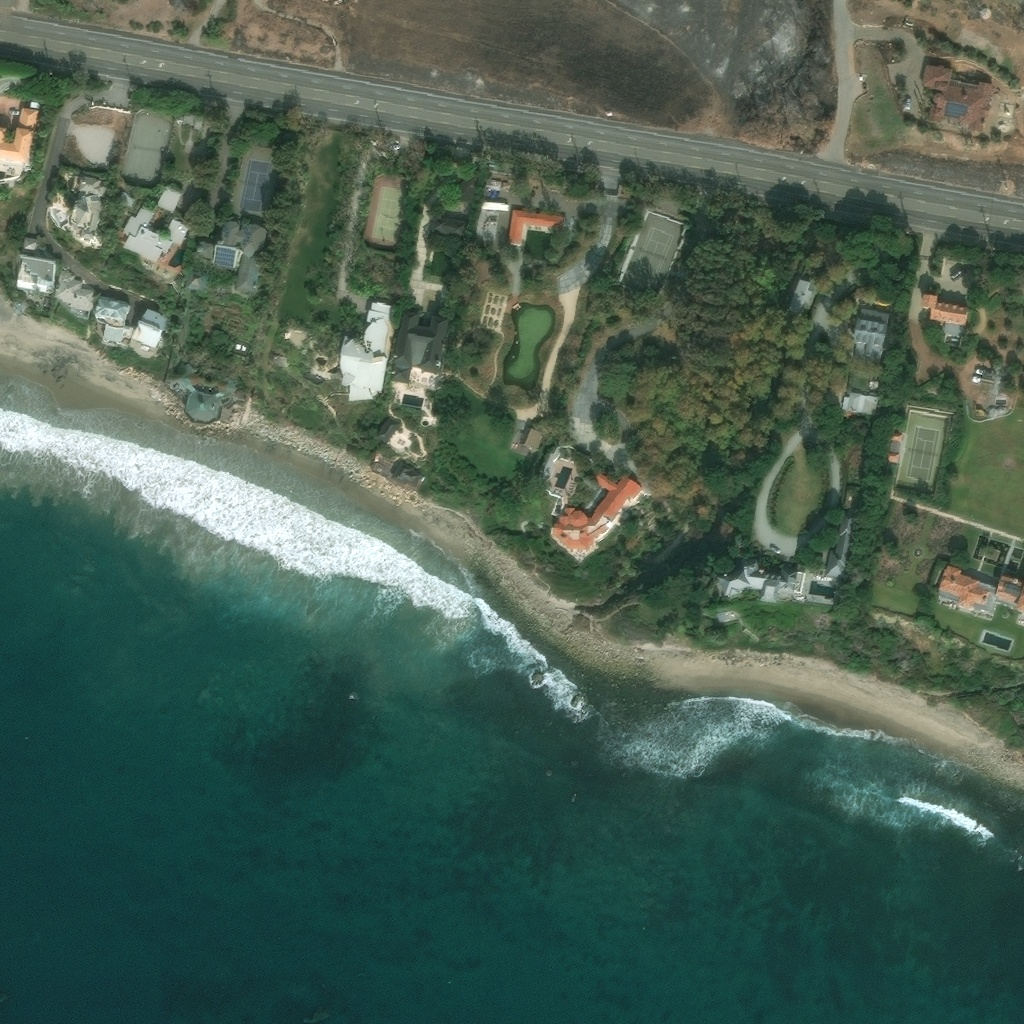0 no-damage: (552, 471, 640, 551), (331, 298, 393, 407), (918, 61, 994, 134), (931, 563, 1023, 622), (388, 309, 450, 384), (713, 556, 798, 605), (219, 219, 266, 298), (0, 94, 40, 168), (849, 303, 890, 361), (505, 208, 564, 246), (824, 509, 854, 579), (120, 224, 172, 264), (50, 268, 95, 312), (920, 292, 969, 327), (130, 307, 168, 350), (14, 254, 57, 292), (68, 196, 101, 238), (784, 277, 815, 319), (437, 173, 476, 203), (92, 294, 130, 322), (840, 389, 878, 416), (389, 457, 424, 486), (121, 205, 153, 235), (77, 173, 107, 198), (427, 216, 466, 235), (156, 185, 181, 212), (518, 425, 541, 452), (166, 218, 189, 245), (377, 417, 398, 441), (194, 240, 214, 261), (214, 247, 236, 266), (20, 236, 38, 252), (886, 451, 899, 464), (716, 611, 729, 622)
